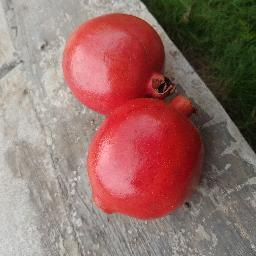Good_pomegranate: (91, 105, 212, 220), (56, 12, 174, 103)
